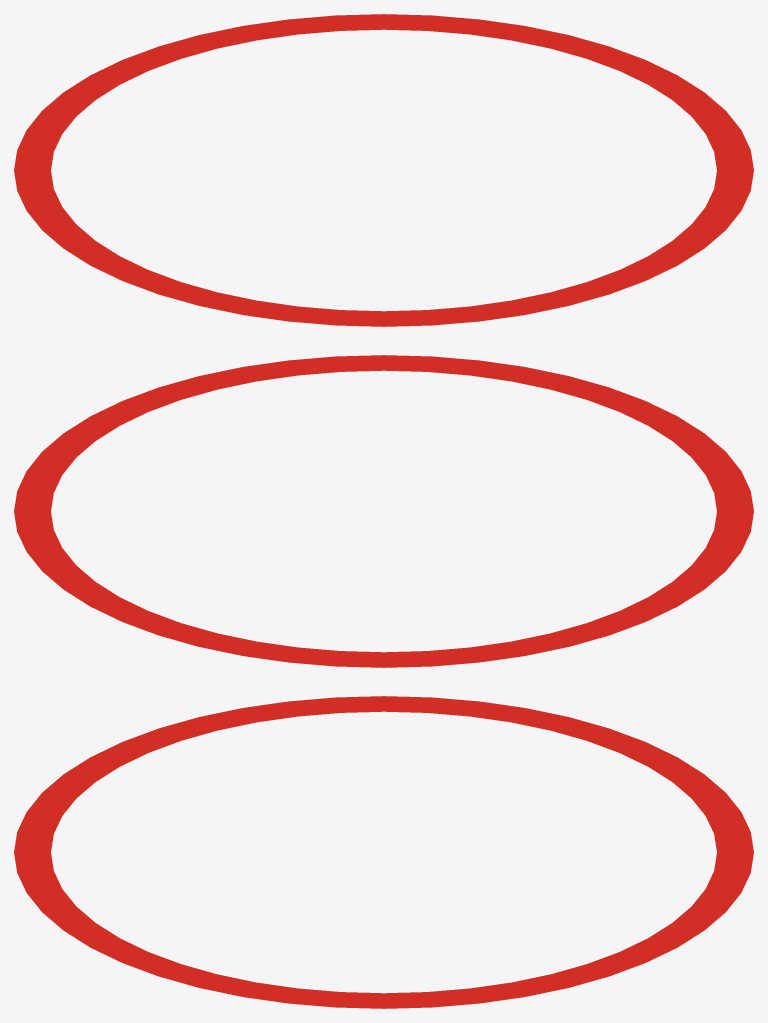
Rendered from telegraph_ring.glb.
3 views of the same model, one above another, from view 1: azimuth 30°, elevation 25°; view 2: azimuth 150°, elevation 25°; view 3: azimuth 270°, elevation 25° (orthographic).
Parts seen in each view (by area): view 1: telegraph_ring; view 2: telegraph_ring; view 3: telegraph_ring.
Boxes of the visible parts, box(x1,y1,x2,y2) form: telegraph_ring: box(14, 14, 753, 326); telegraph_ring: box(14, 355, 753, 667); telegraph_ring: box(14, 696, 753, 1008).
Size of the model in its own units: 2 by 0 by 2.
1 material, 1 textured.
